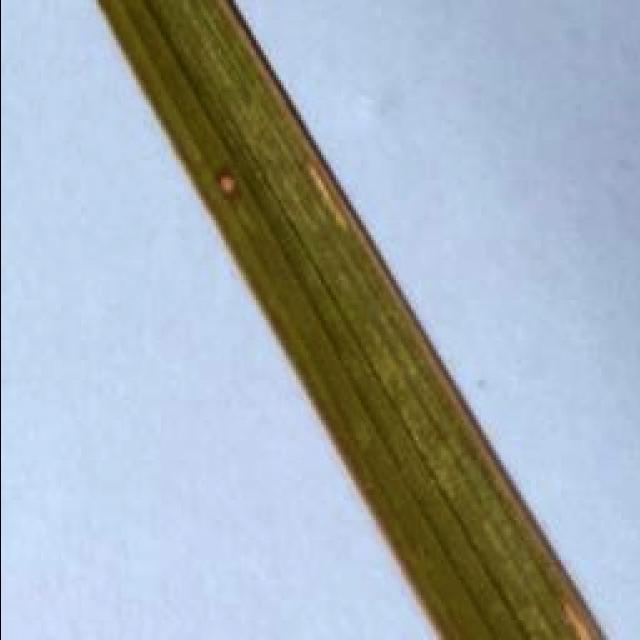Unhealthy: (305, 161, 353, 235), (213, 168, 243, 202)
